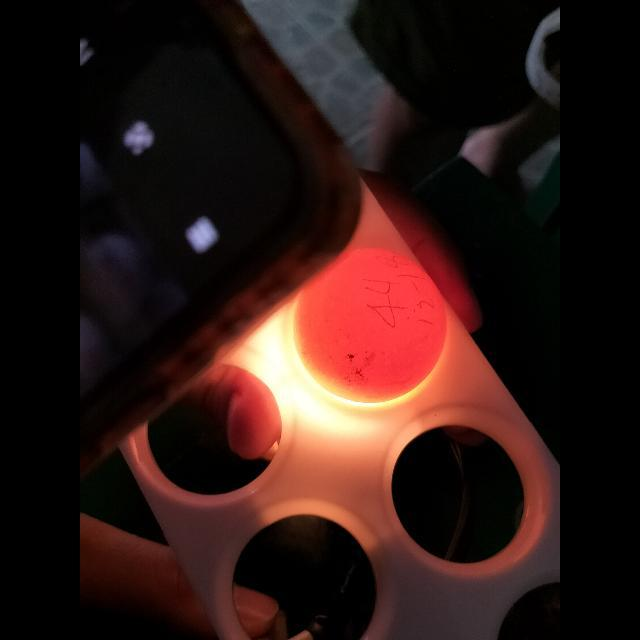Infertile: (296, 242, 452, 404)
